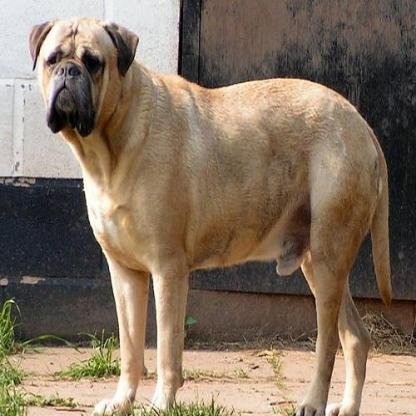bull_mastiff: (25, 15, 403, 413)
